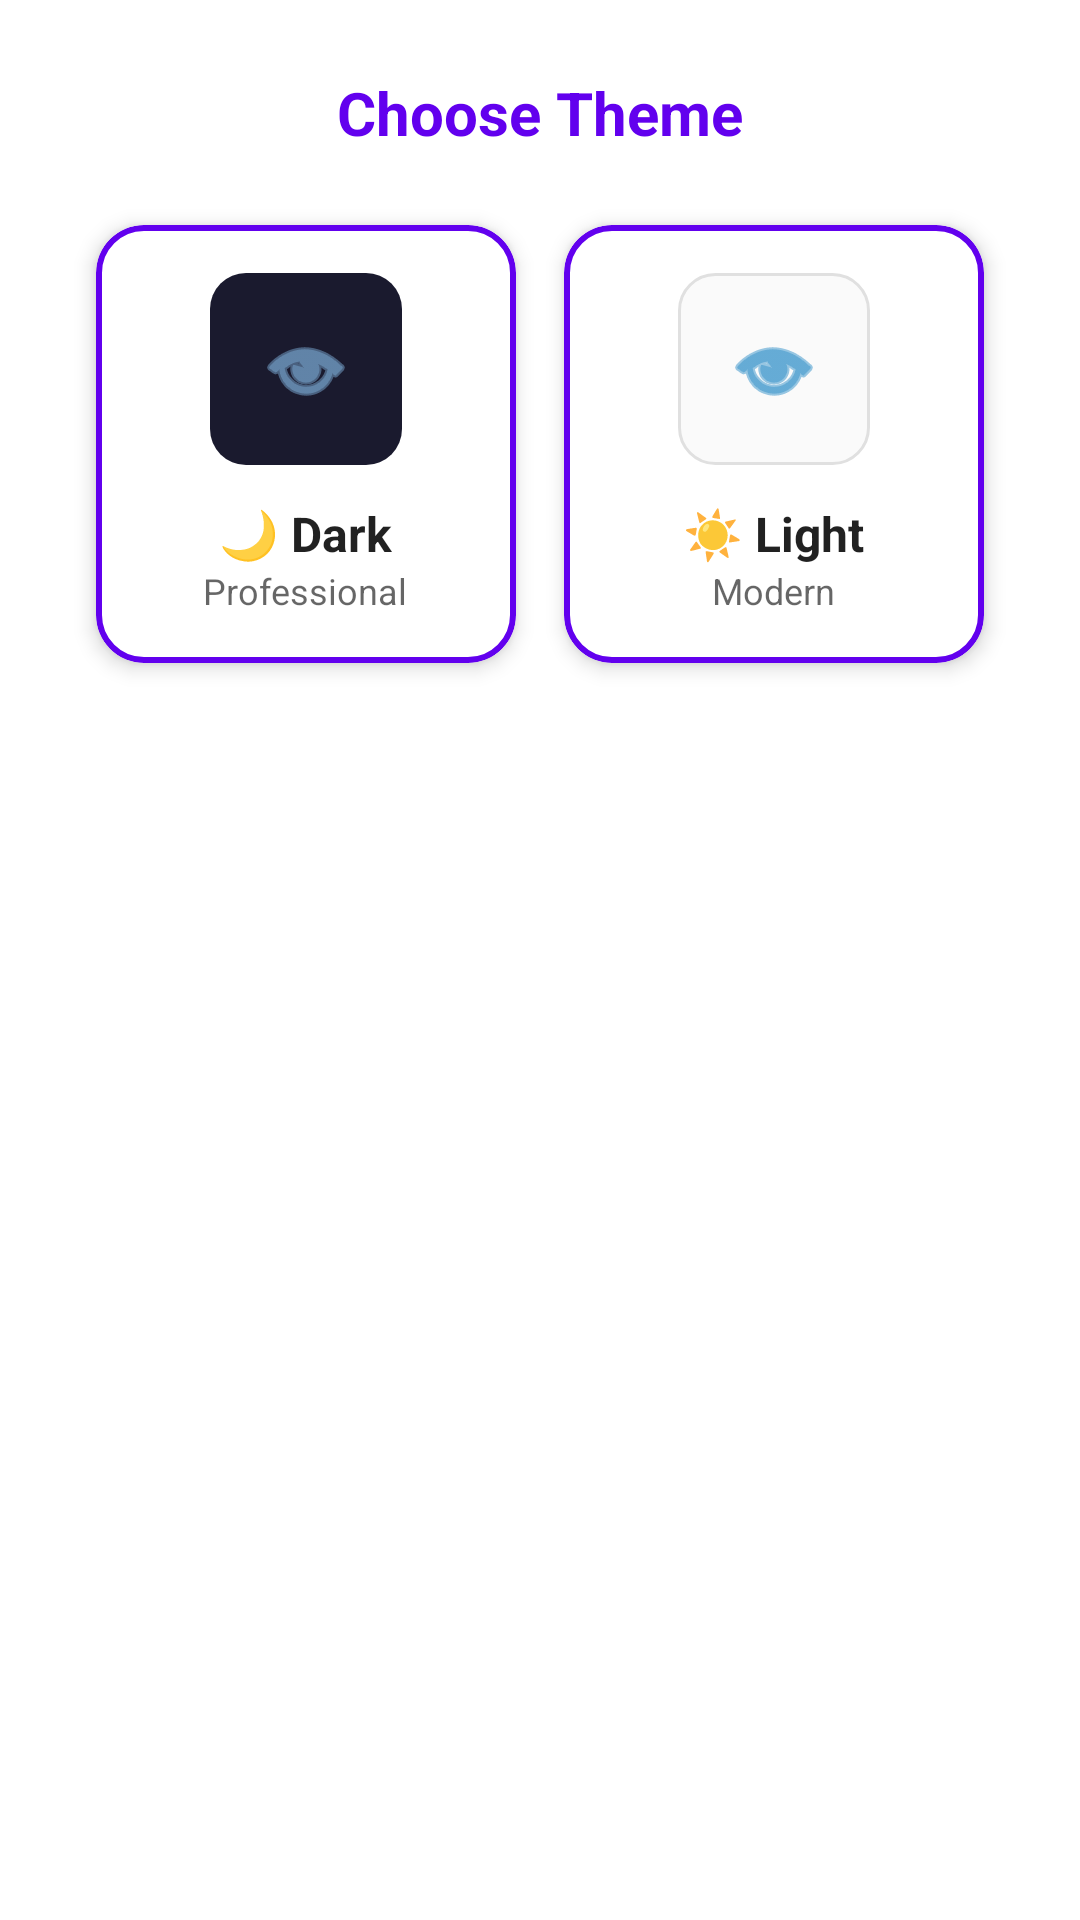

Icons on this 1080px x 1920px Android screen, each with the point to tap as (x,y):
view: (306,371), (774,371)
